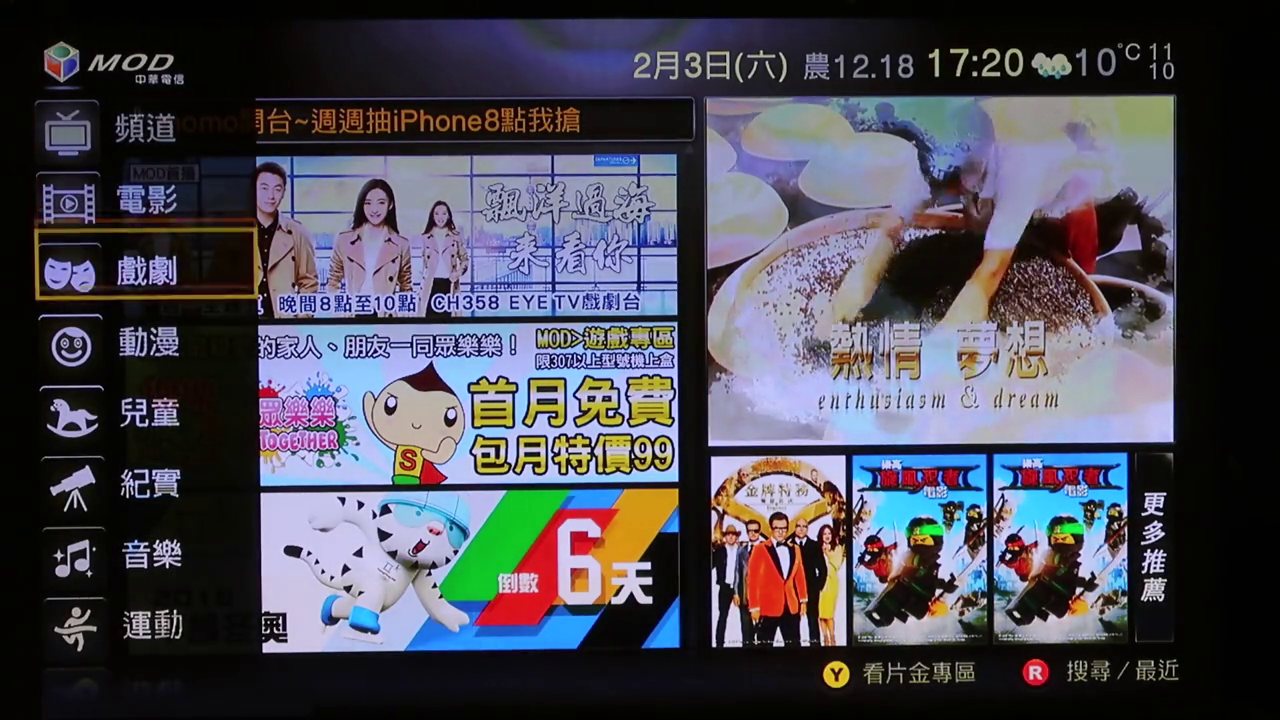__distract: (690, 66, 945, 705)
mainMenu: (26, 34, 281, 673)
